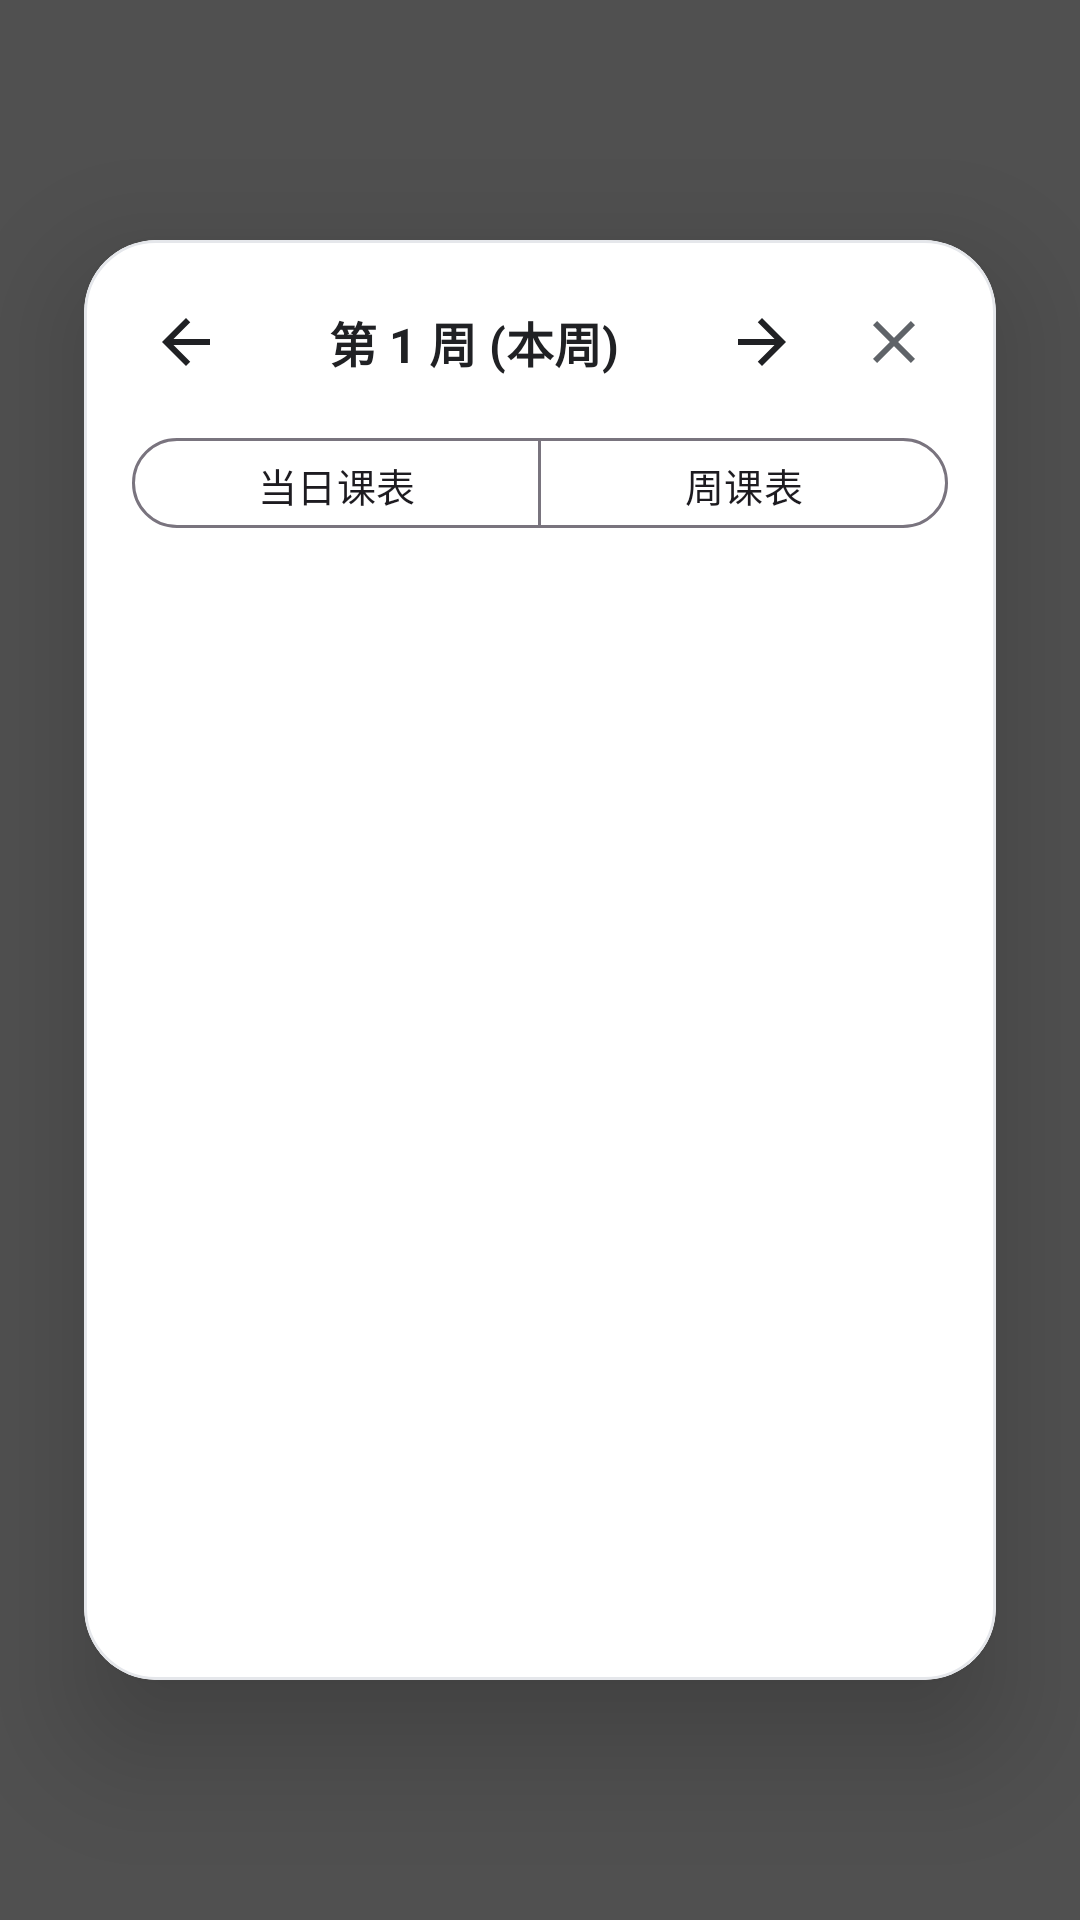

Icon bounding boxes for this 1080px×1920px phone screenshot, format {"left": x1, "top": y1, "right": x2, "bottom": y2}:
上一周: {"left": 162, "top": 318, "right": 210, "bottom": 366}
关闭: {"left": 873, "top": 321, "right": 915, "bottom": 363}
